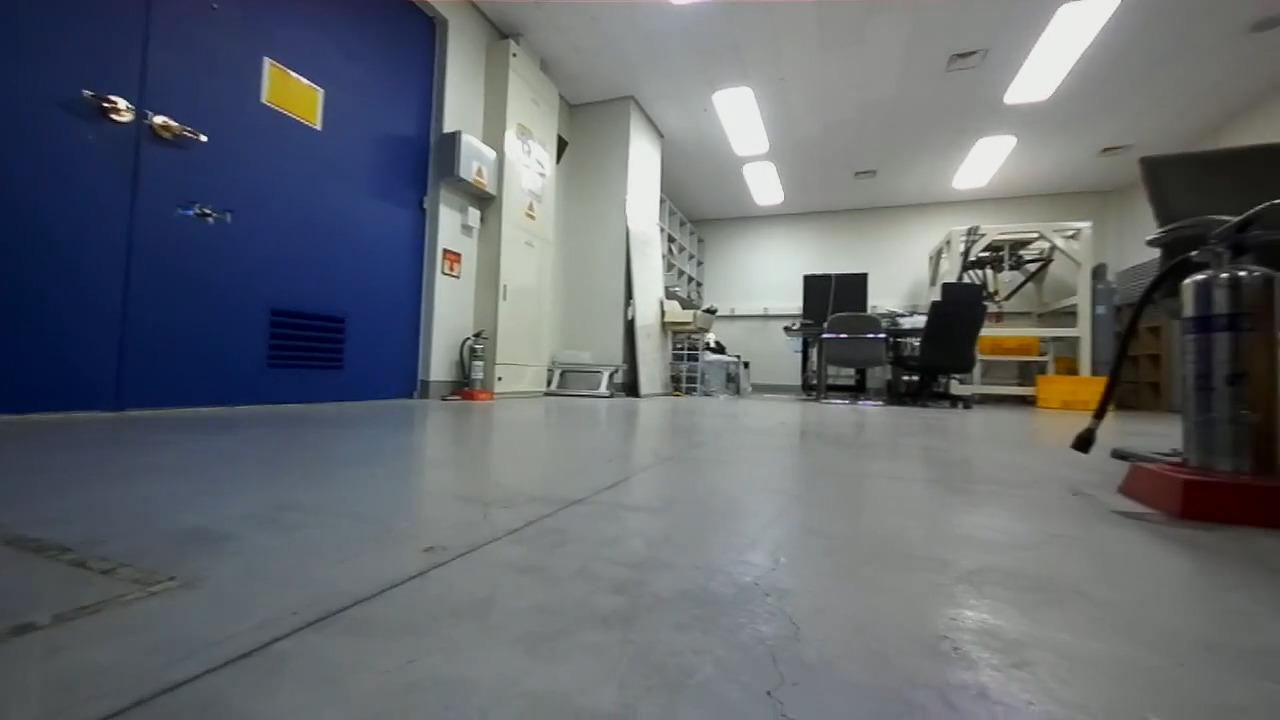crazyflie: (169, 198, 236, 228)
